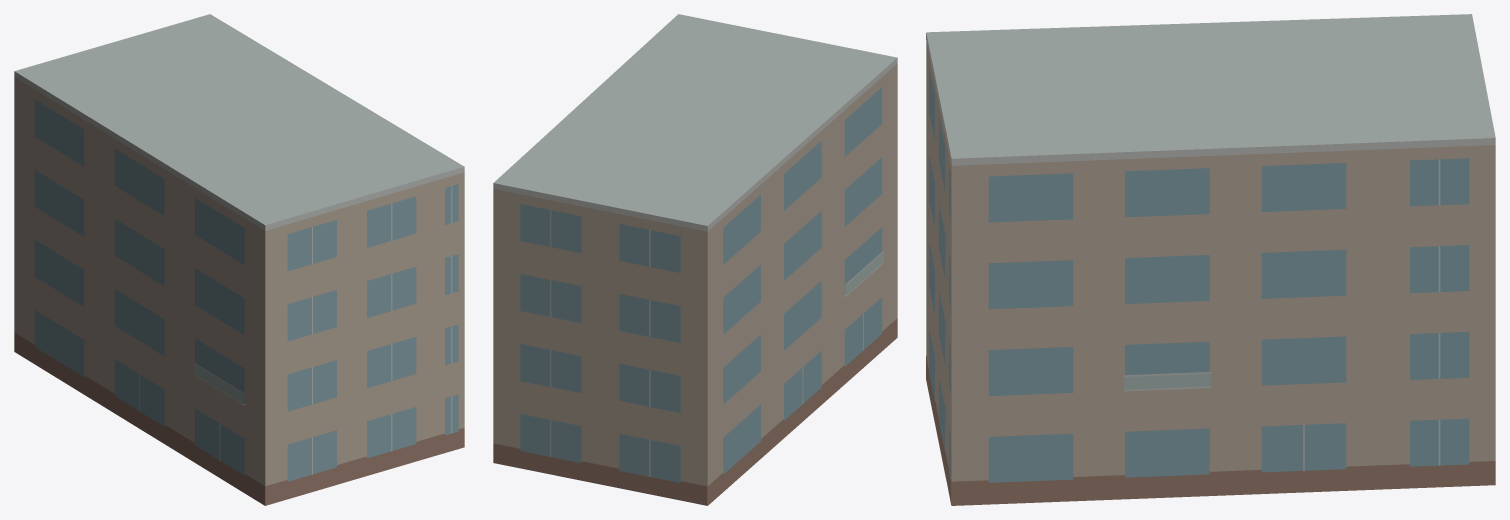
File: survey-upis-32886731.glb
3 views of the same model, side by side, from view 1: azimuth 30°, elevation 25°; view 2: azimuth 150°, elevation 25°; view 3: azimuth 270°, elevation 25° (orthographic). The views are drawn at different scales.
Parts seen in each view (by area): view 1: survey-upis-32886731.tmp; view 2: survey-upis-32886731.tmp; view 3: survey-upis-32886731.tmp.
Boxes of the visible parts, left/top/right/bottom form: survey-upis-32886731.tmp: left=14, top=14, right=464, bottom=505; survey-upis-32886731.tmp: left=493, top=14, right=897, bottom=505; survey-upis-32886731.tmp: left=926, top=14, right=1495, bottom=505.
Bounding box in the file's own units: 10.74 × 12 × 17.86.
